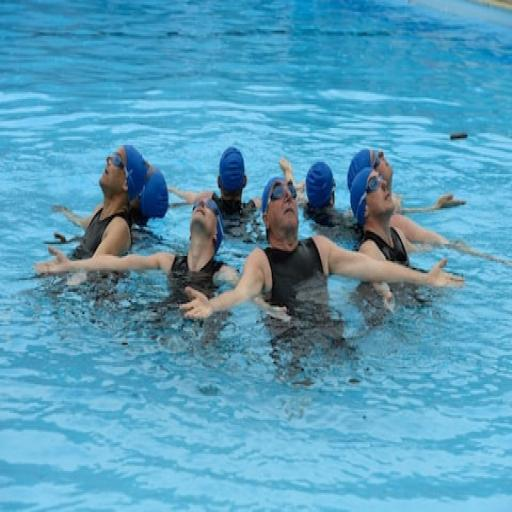swimming: (177, 172, 465, 334), (34, 196, 240, 311), (35, 142, 169, 286)
